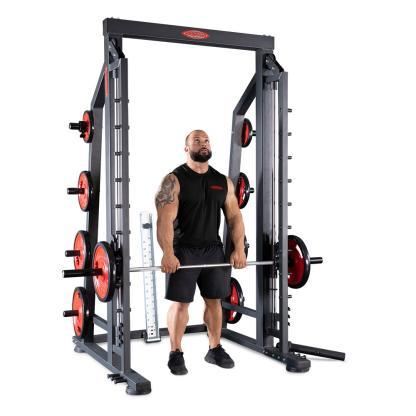smith machine: (63, 18, 345, 397)
